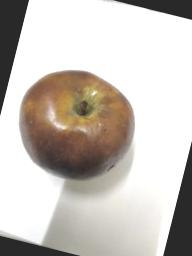Apple Unripe: (0, 38, 157, 205)
